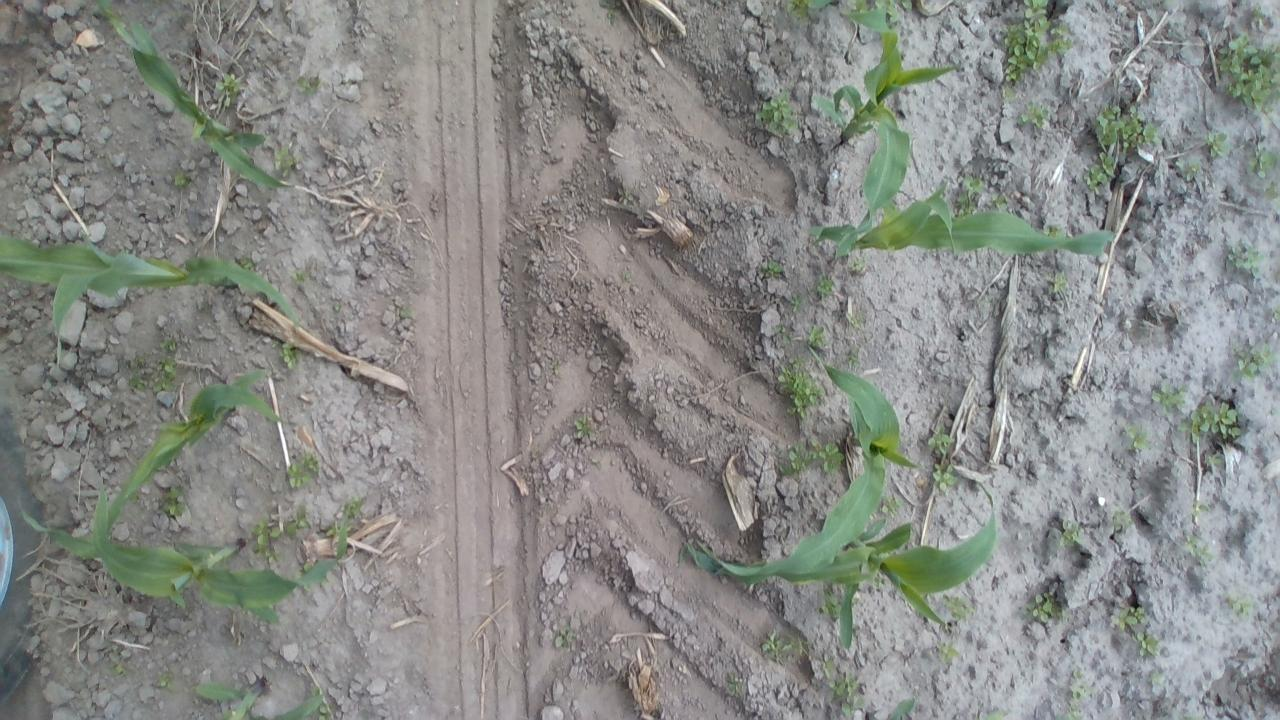Maize: (686, 482, 1004, 652), (19, 491, 358, 628), (736, 348, 924, 582), (1, 228, 301, 362), (92, 2, 294, 198), (809, 11, 958, 264), (95, 370, 288, 564), (806, 153, 1120, 266), (194, 675, 337, 719), (861, 697, 917, 720), (800, 0, 846, 15)
Weeds: (999, 0, 1075, 91), (1216, 31, 1280, 111), (776, 352, 826, 422), (1091, 104, 1161, 152), (778, 436, 848, 476), (1176, 402, 1244, 443), (125, 352, 180, 394), (754, 90, 801, 137), (822, 670, 864, 716), (1229, 342, 1275, 382), (759, 630, 810, 661), (1024, 590, 1066, 625), (1227, 238, 1265, 276), (249, 520, 282, 562), (952, 173, 984, 216), (285, 448, 319, 488), (1066, 664, 1090, 720), (1084, 150, 1114, 190), (1243, 142, 1276, 178), (1150, 382, 1186, 413), (1182, 535, 1218, 566), (1019, 100, 1054, 131), (216, 72, 246, 108), (1110, 604, 1148, 631), (874, 0, 915, 25), (1122, 420, 1154, 452), (927, 423, 957, 454), (160, 485, 188, 518), (272, 339, 300, 370), (944, 594, 974, 622), (1204, 128, 1231, 159), (784, 0, 828, 19), (1055, 519, 1081, 550), (816, 588, 841, 620), (1133, 628, 1159, 658), (284, 508, 314, 534), (273, 142, 298, 173), (554, 618, 577, 651), (1200, 445, 1228, 472), (1227, 594, 1256, 620), (292, 72, 326, 94), (932, 461, 956, 492), (1108, 505, 1134, 533), (1174, 156, 1201, 182), (936, 640, 962, 666), (811, 272, 835, 300), (572, 413, 596, 440), (726, 671, 748, 699), (1047, 269, 1069, 296), (773, 323, 795, 346), (882, 493, 903, 517), (1040, 220, 1065, 240), (172, 168, 197, 188), (806, 324, 828, 346), (761, 259, 785, 279), (615, 184, 634, 208), (339, 496, 366, 512), (1189, 498, 1210, 518), (846, 310, 865, 332), (236, 254, 258, 272), (601, 2, 623, 20), (990, 192, 1009, 212), (847, 254, 867, 273), (1250, 1, 1268, 22), (156, 670, 174, 691), (819, 652, 836, 673), (157, 335, 180, 350), (108, 660, 128, 677), (789, 291, 805, 312), (844, 348, 862, 366), (324, 517, 338, 540), (292, 267, 310, 284), (299, 563, 317, 580), (849, 0, 870, 14), (999, 85, 1016, 102), (978, 710, 1010, 719), (548, 356, 564, 374), (620, 266, 634, 286), (393, 304, 412, 318), (1264, 182, 1278, 200), (315, 704, 330, 720), (1266, 305, 1280, 322), (872, 576, 886, 592), (1150, 671, 1164, 686), (331, 299, 344, 315)
